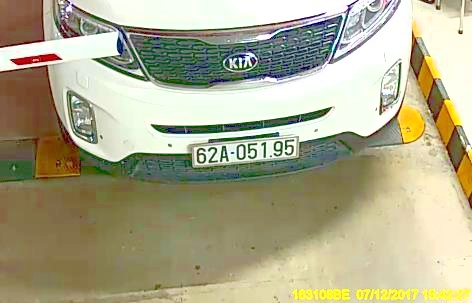plate: (188, 139, 299, 165)
